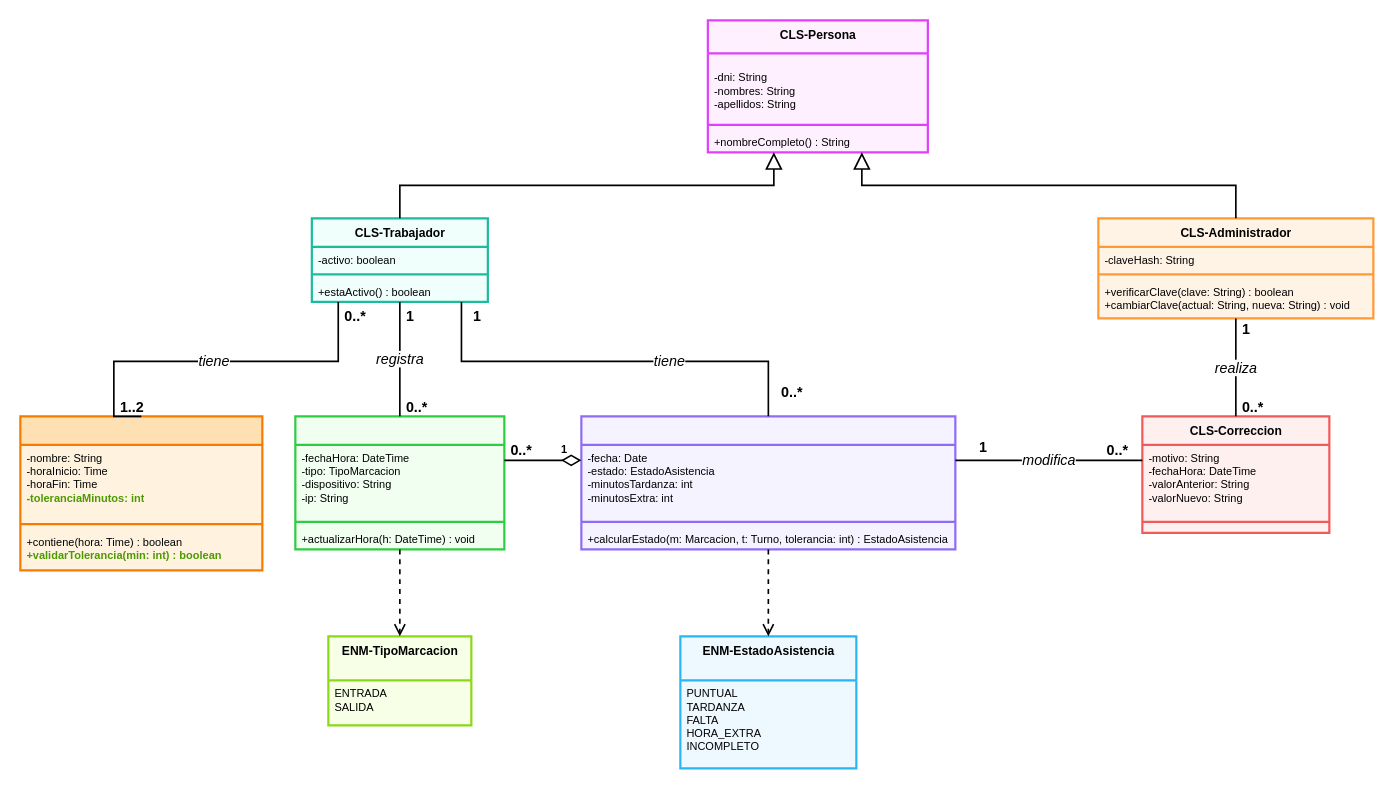
Some shapes in this 1393 by 791 pixel diagram are drawn without their labels. The shapes that lost their labels are listed below. From the top down, each one's box as (x1, y1, x2, y2) in pixels, then its label:
(19, 415, 263, 571): CLS-Turno
(294, 415, 505, 550): CLS-Marcacion
(580, 415, 956, 550): CLS-Asistencia
